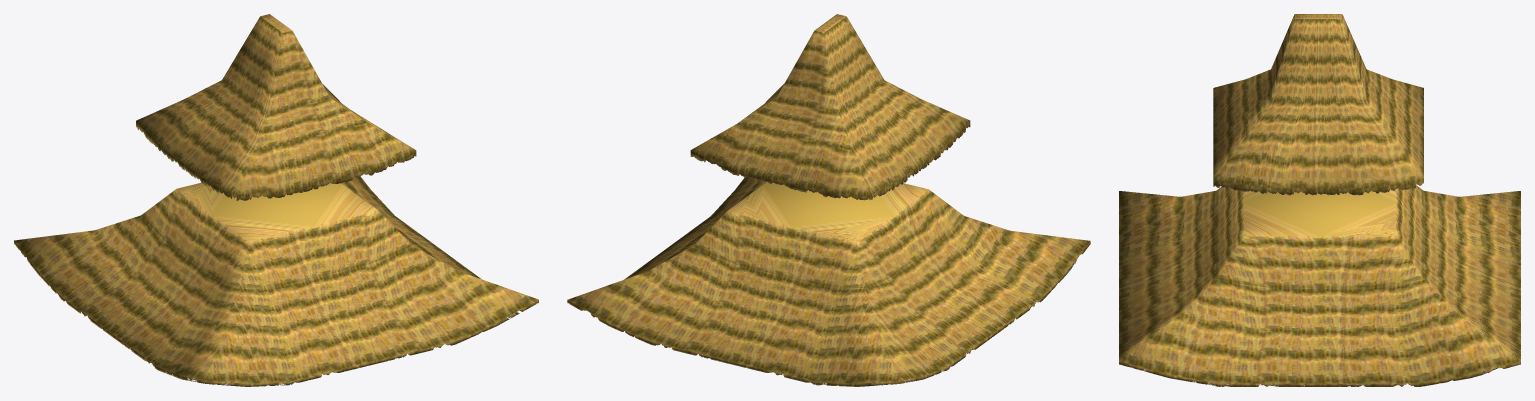
File: roof_market.dae
The picture shows the model from 3 angles, left to right: view 1: azimuth 30°, elevation 25°; view 2: azimuth 150°, elevation 25°; view 3: azimuth 270°, elevation 25°; orthographic projection. The views are drawn at different scales.
Parts seen in each view (by area): view 1: market.001; view 2: market.001; view 3: market.001.
Boxes of the visible parts, box(x1,y1,x2,y2) form: market.001: box(14, 14, 538, 386); market.001: box(567, 14, 1090, 386); market.001: box(1119, 14, 1520, 386).
Bounding box in the file's own units: 18.25 × 18.2 × 14.24.
